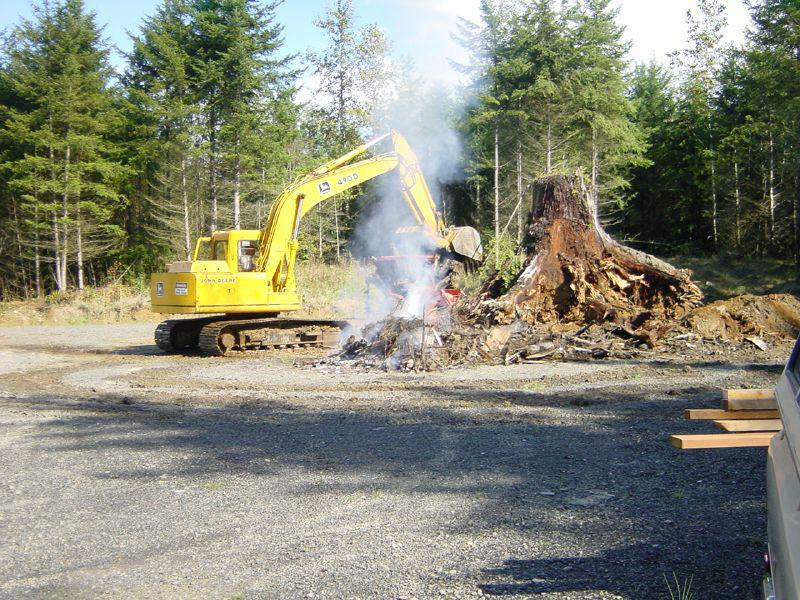EXCAVATORS: (146, 126, 485, 357)
